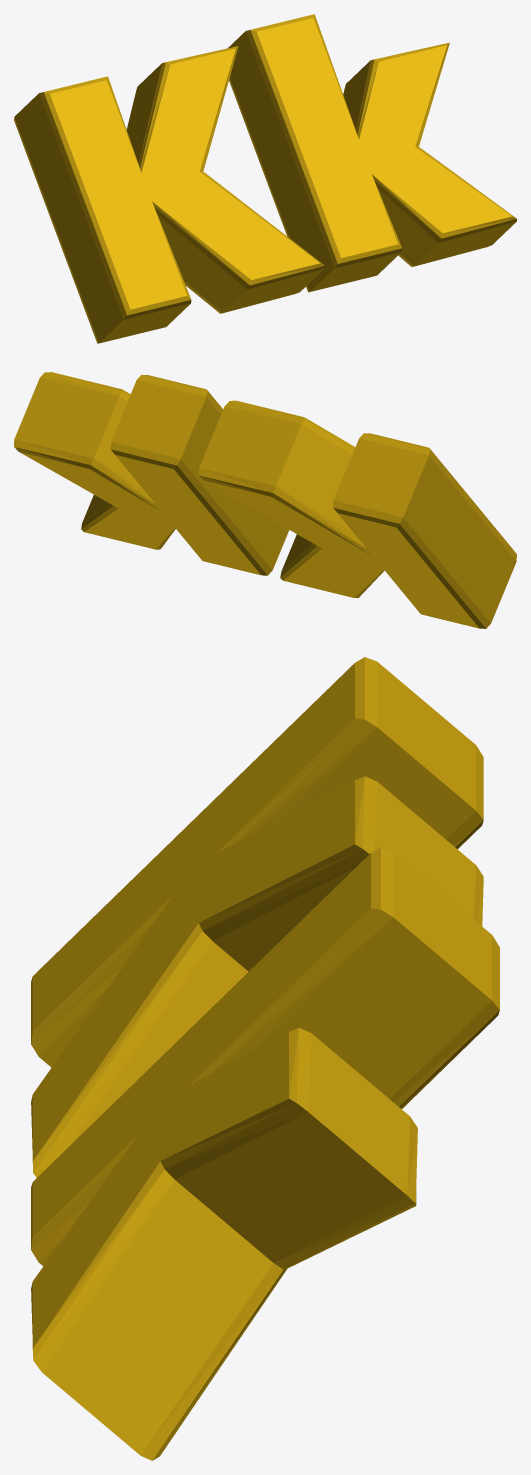
3 views of the same model, one above another, from view 1: azimuth 30°, elevation 25°; view 2: azimuth 150°, elevation 25°; view 3: azimuth 270°, elevation 25° (orthographic). The views are drawn at different scales.
Parts seen in each view (by area): view 1: letter; view 2: letter; view 3: letter.
Boxes of the visible parts, x1,y1,x2,y2 form: letter: (14, 14, 516, 343); letter: (14, 372, 516, 628); letter: (31, 657, 499, 1460).
Bounding box in the file's own units: 1.88 × 1.01 × 0.9711.
